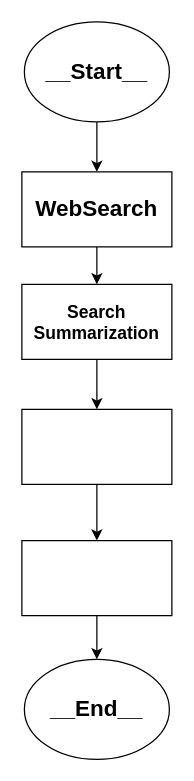
Image size: 194x781. Some labels were removed from this diagram. The shapes that lost their labels are listed below. From the top down, each one's centre as x and y in pixels, then its label:
At point 96,446: "analysis".
At point 96,577: "Report".
